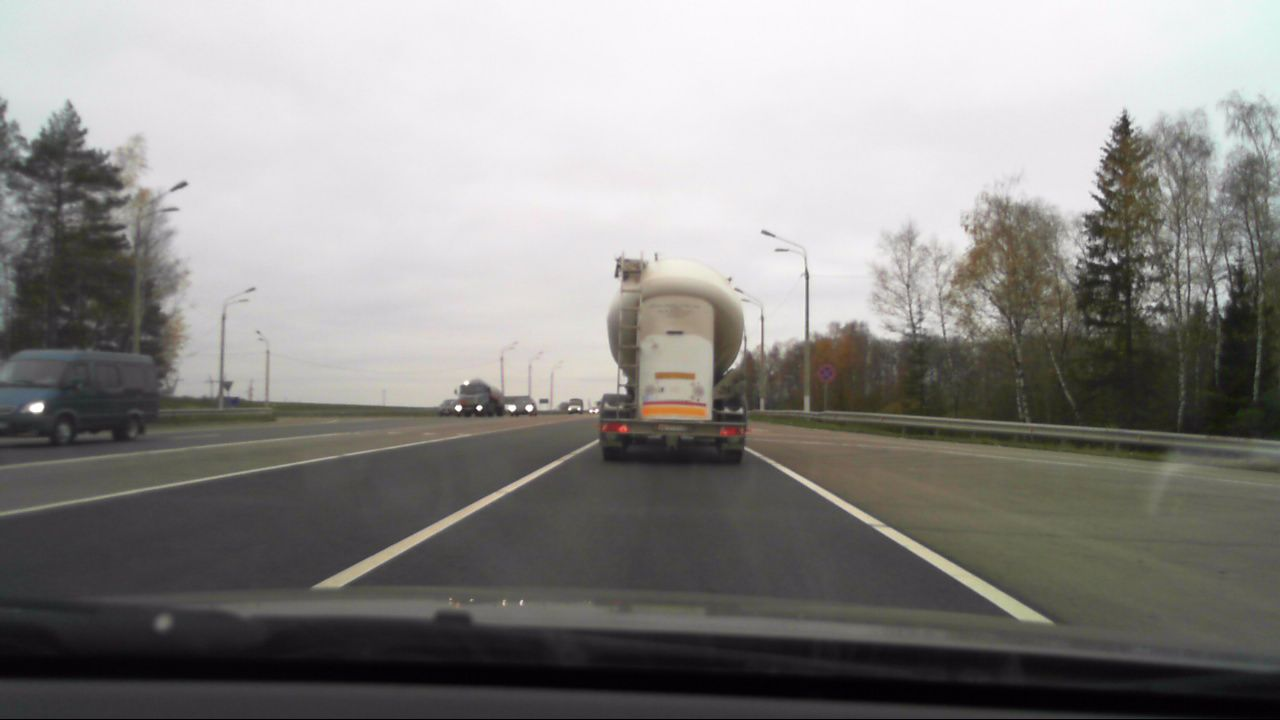No Parking: (813, 361, 835, 387)
